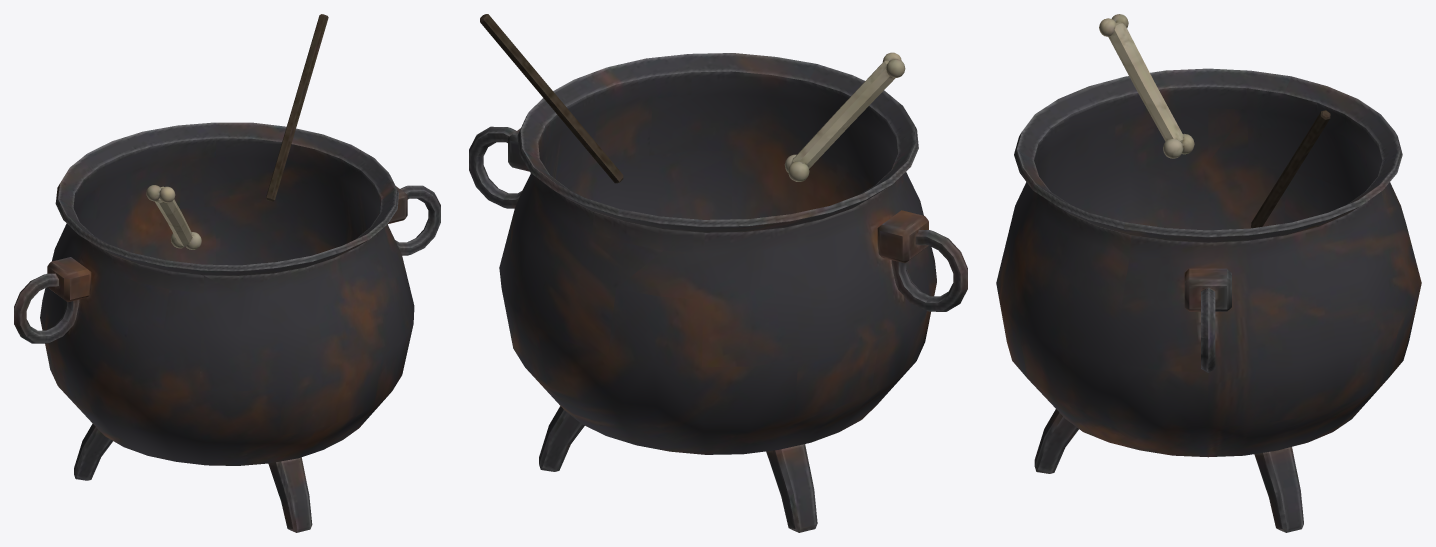
Rendered from cauldron.glb.
3 views of the same model, side by side, from view 1: azimuth 30°, elevation 25°; view 2: azimuth 150°, elevation 25°; view 3: azimuth 270°, elevation 25° (orthographic). The views are drawn at different scales.
Visible parts, largest first — view 1: cauldron; view 2: cauldron; view 3: cauldron.
Boxes of the visible parts, <box> form: cauldron: <box>14,14,440,532</box>; cauldron: <box>469,14,967,532</box>; cauldron: <box>996,14,1421,532</box>.
Size of the model in its own units: 0.9443 by 0.8236 by 0.7215.
Materials: 1 (1 with a texture image).
